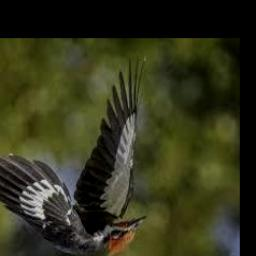Woodpecker: (0, 56, 146, 256)
